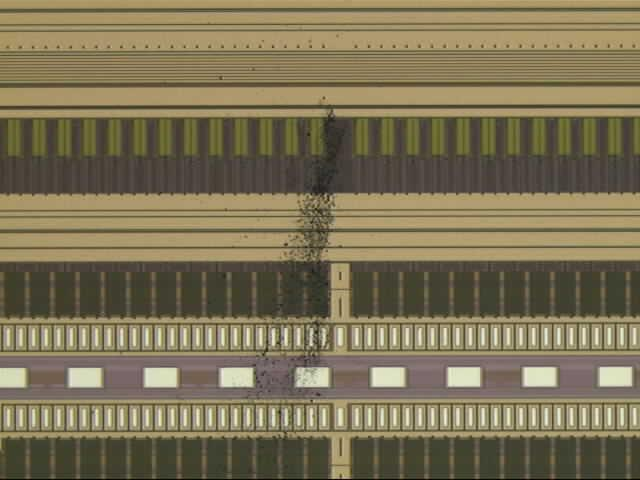PO CONTAMINATION: (244, 93, 354, 452)
